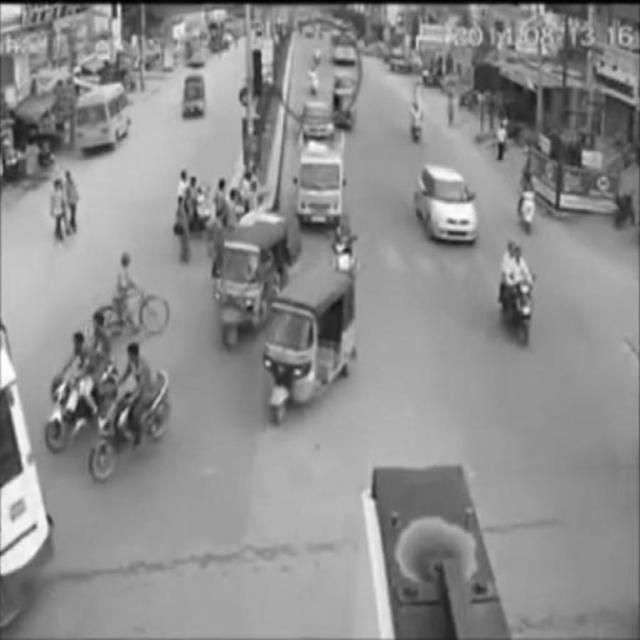vehicle: (262, 277, 356, 414), (217, 218, 305, 350), (92, 345, 172, 482), (44, 333, 122, 453), (95, 250, 171, 338), (418, 170, 475, 248), (497, 241, 535, 345), (299, 144, 343, 228), (76, 92, 130, 144)
